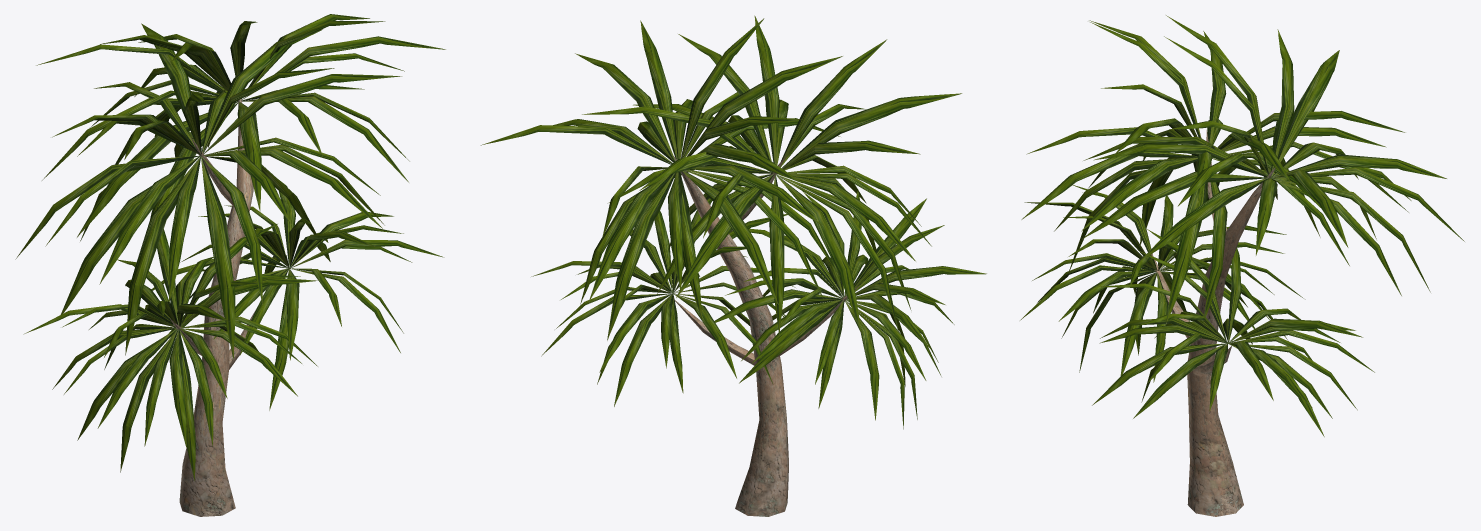
The model's file is dra_LOD0.fbx.
3 renders of one model, left to right at view 1: azimuth 30°, elevation 25°; view 2: azimuth 150°, elevation 25°; view 3: azimuth 270°, elevation 25°, orthographic. The views are drawn at different scales.
Visible parts, largest first — view 1: Mesh Object; view 2: Mesh Object; view 3: Mesh Object.
Boxes of the visible parts, bbox=[...] form: Mesh Object: bbox=[15, 14, 445, 516]; Mesh Object: bbox=[480, 15, 986, 516]; Mesh Object: bbox=[1020, 15, 1464, 516].
Bounding box in the file's own units: 22.69 × 25.84 × 21.86.
